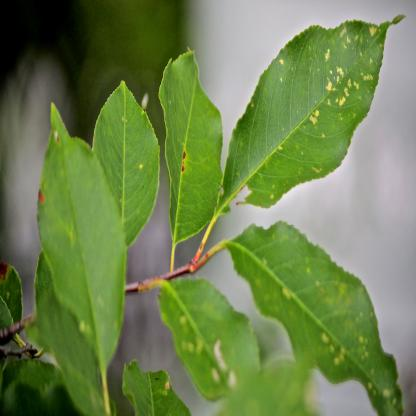cherry leaf: (213, 13, 408, 232), (224, 215, 408, 416), (29, 95, 134, 402), (88, 68, 166, 267), (148, 271, 261, 406), (157, 32, 225, 254)
